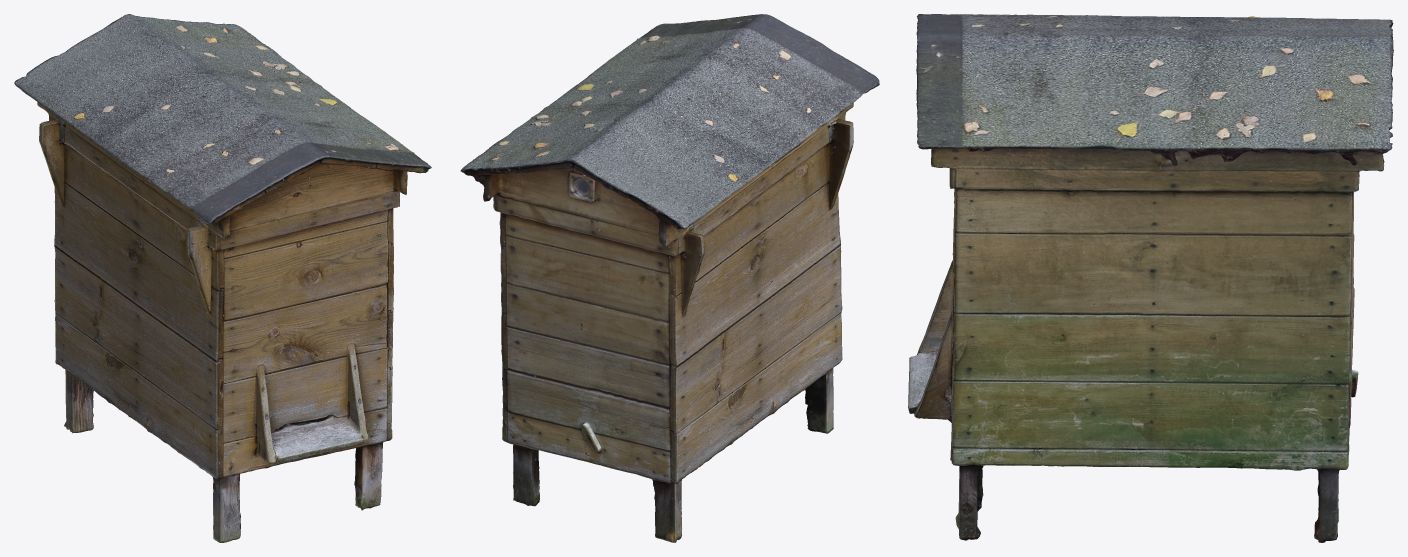
Rendered from beehive_box.glb.
3 views of the same model, side by side, from view 1: azimuth 30°, elevation 25°; view 2: azimuth 150°, elevation 25°; view 3: azimuth 270°, elevation 25° (orthographic). The views are drawn at different scales.
Parts seen in each view (by area): view 1: Object_2; view 2: Object_2; view 3: Object_2.
Part boxes in pixels (x1,y1,x2,y2): Object_2: (14, 14, 431, 542); Object_2: (460, 14, 879, 542); Object_2: (908, 14, 1393, 542).
Size of the model in its own units: 0.7803 by 1.25 by 1.19.
Materials: 1 (1 with a texture image).
